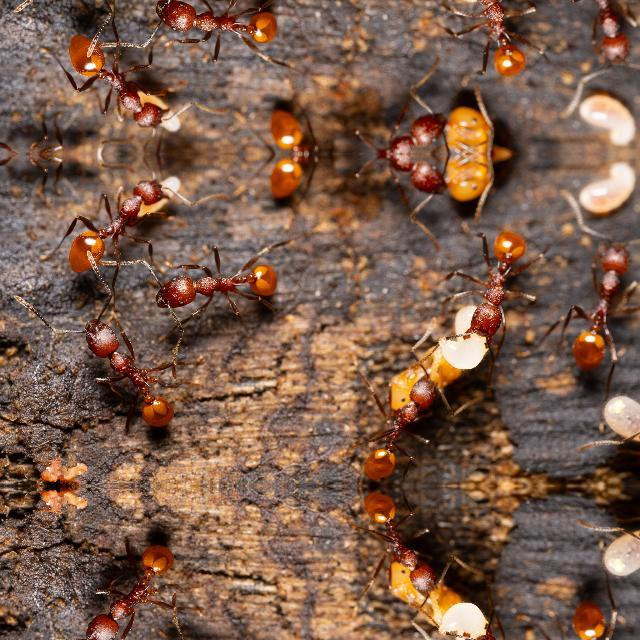Apheanogaster: (336, 355, 474, 485), (336, 486, 474, 616), (43, 161, 199, 273), (43, 33, 199, 145), (432, 222, 558, 356), (56, 312, 194, 434), (544, 225, 638, 379), (56, 536, 194, 640), (430, 0, 558, 84), (138, 252, 294, 318), (334, 153, 496, 207), (334, 99, 496, 153), (136, 0, 294, 54), (542, 0, 637, 80), (232, 106, 352, 154), (232, 153, 352, 200), (542, 592, 638, 640)
